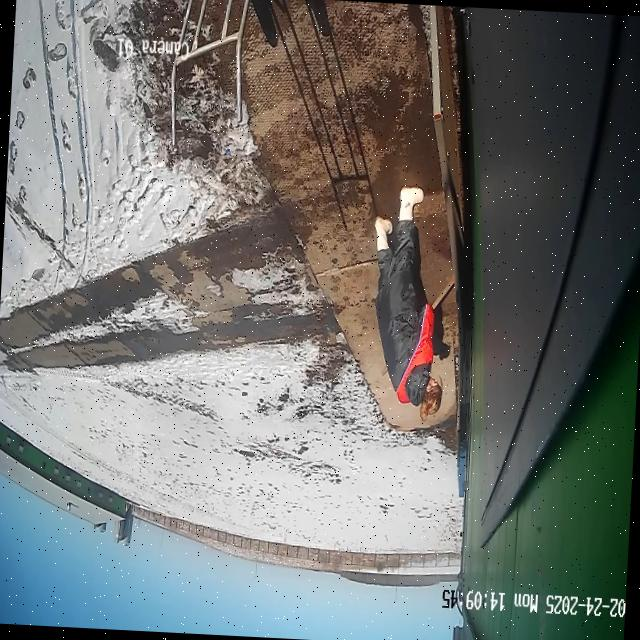Red uniform: (363, 182, 458, 423)
